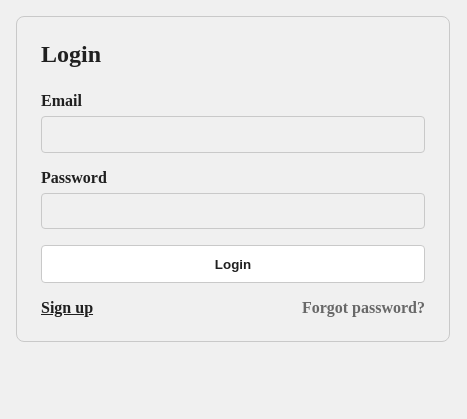
it: App › shows validation feedback when login fails
Type "user@example.com" into the field named "email".
click(233, 134); type("user@example.com")  # box [41, 116, 425, 152]
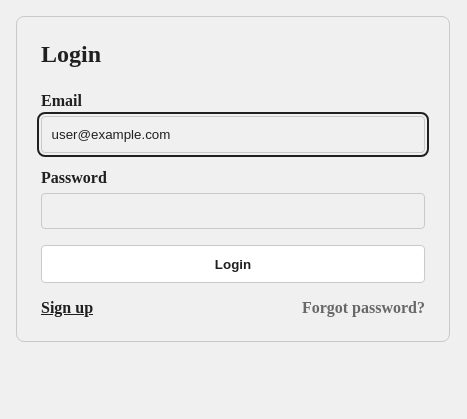
Type "incorrect-password" into the password field named "password".
click(233, 211); type("incorrect-password")  # box [41, 193, 425, 229]
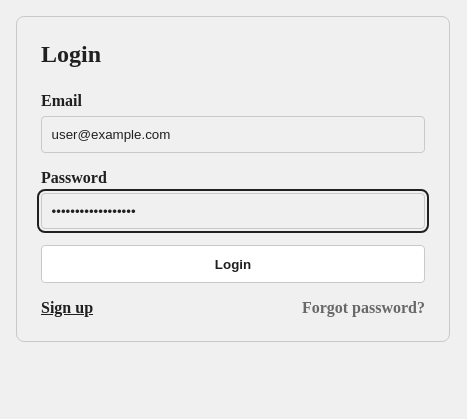
Click the button "Login".
click(233, 264)  # box [41, 245, 425, 283]
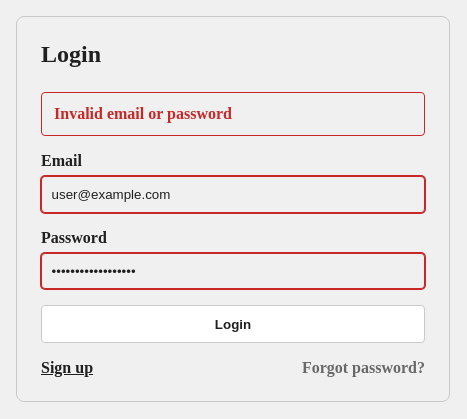
Expected: the message "Invalid email or password" is shown, [41, 92, 425, 136]
